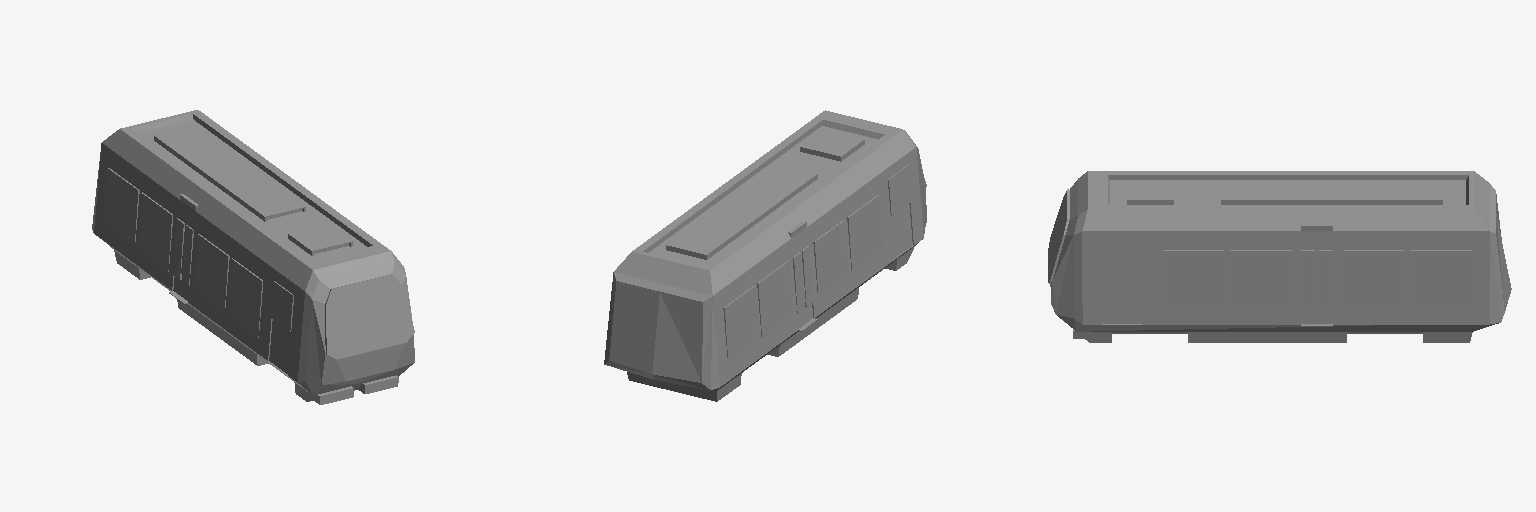
File: Train.obj
3 views of the same model, side by side, from view 1: azimuth 30°, elevation 25°; view 2: azimuth 150°, elevation 25°; view 3: azimuth 270°, elevation 25° (orthographic).
Parts seen in each view (by area): view 1: Train_Cube.001; view 2: Train_Cube.001; view 3: Train_Cube.001.
Boxes of the visible parts, x1,y1,x2,y2 form: Train_Cube.001: [92, 110, 414, 404]; Train_Cube.001: [604, 110, 926, 401]; Train_Cube.001: [1048, 171, 1511, 342].
Size of the model in its own units: 2.13 by 2.2 by 7.02.